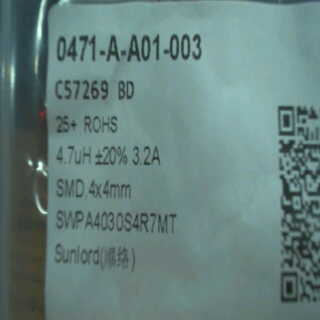4.7uH: (56, 140, 95, 170)
